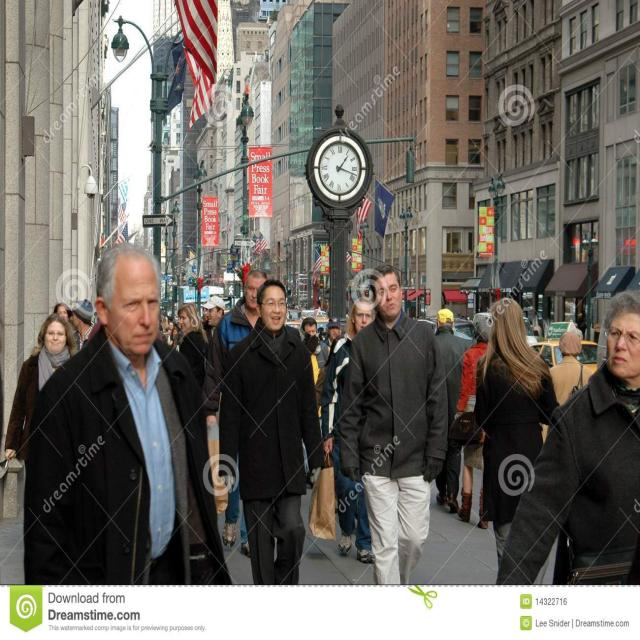body: (21, 240, 232, 585), (495, 285, 640, 585), (217, 276, 325, 640), (337, 262, 450, 586), (473, 295, 559, 585), (308, 295, 376, 565), (214, 268, 268, 559), (3, 313, 80, 474), (453, 311, 495, 532), (434, 308, 468, 512), (548, 330, 594, 406), (301, 315, 329, 420), (177, 302, 210, 390), (315, 315, 342, 370), (70, 298, 96, 352), (202, 294, 226, 342), (161, 308, 178, 342), (53, 301, 71, 316), (316, 323, 328, 338), (198, 302, 208, 320)
